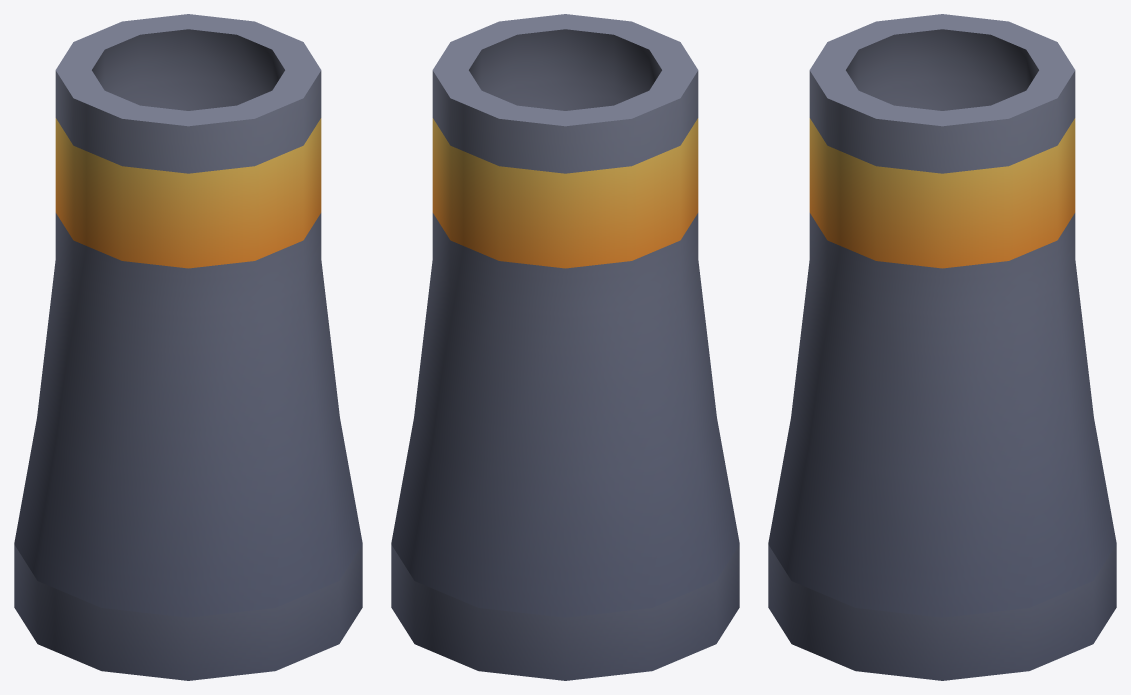
The model's file is chimney-large.fbx.
3 views of the same model, side by side, from view 1: azimuth 30°, elevation 25°; view 2: azimuth 150°, elevation 25°; view 3: azimuth 270°, elevation 25° (orthographic).
Parts seen in each view (by area): view 1: chimney-large; view 2: chimney-large; view 3: chimney-large.
Boxes of the visible parts, left/top/right/bottom form: chimney-large: left=14, top=14, right=362, bottom=680; chimney-large: left=391, top=14, right=739, bottom=680; chimney-large: left=768, top=14, right=1116, bottom=680.
Bounding box in the file's own units: 100 × 170 × 100.
1 material, 1 textured.
